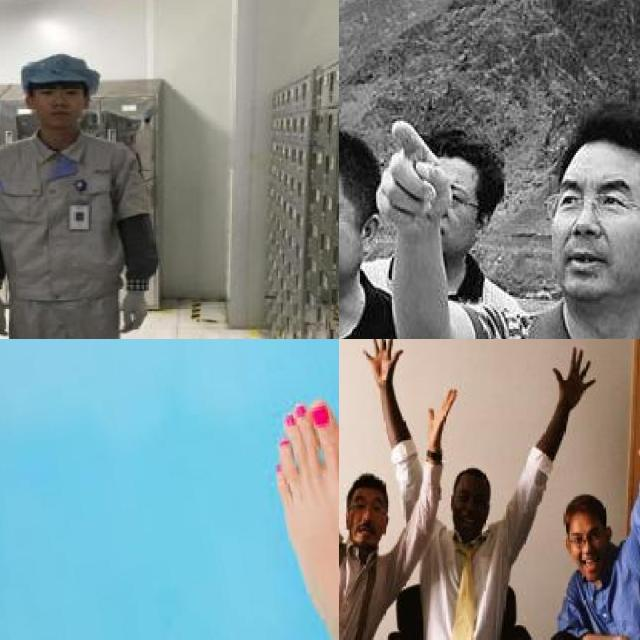Barefoots: (263, 387, 339, 640)
No_Ear-Protection: (359, 210, 382, 262)
face_nomask: (541, 184, 638, 280), (565, 522, 613, 588), (24, 80, 86, 126), (344, 491, 389, 550), (451, 485, 491, 541)
glasses: (541, 188, 640, 226)
hand_glove: (118, 291, 146, 333), (0, 289, 10, 335)
hand_noglove: (371, 114, 457, 248), (548, 345, 599, 405), (425, 382, 459, 454), (360, 339, 401, 392)
head_nohelmet: (549, 106, 640, 181), (14, 38, 101, 84), (339, 123, 368, 189), (559, 491, 611, 525), (348, 468, 390, 504), (454, 462, 496, 491)
person: (0, 29, 168, 339), (437, 91, 640, 339), (400, 456, 531, 640), (555, 495, 640, 640), (339, 472, 395, 640)
